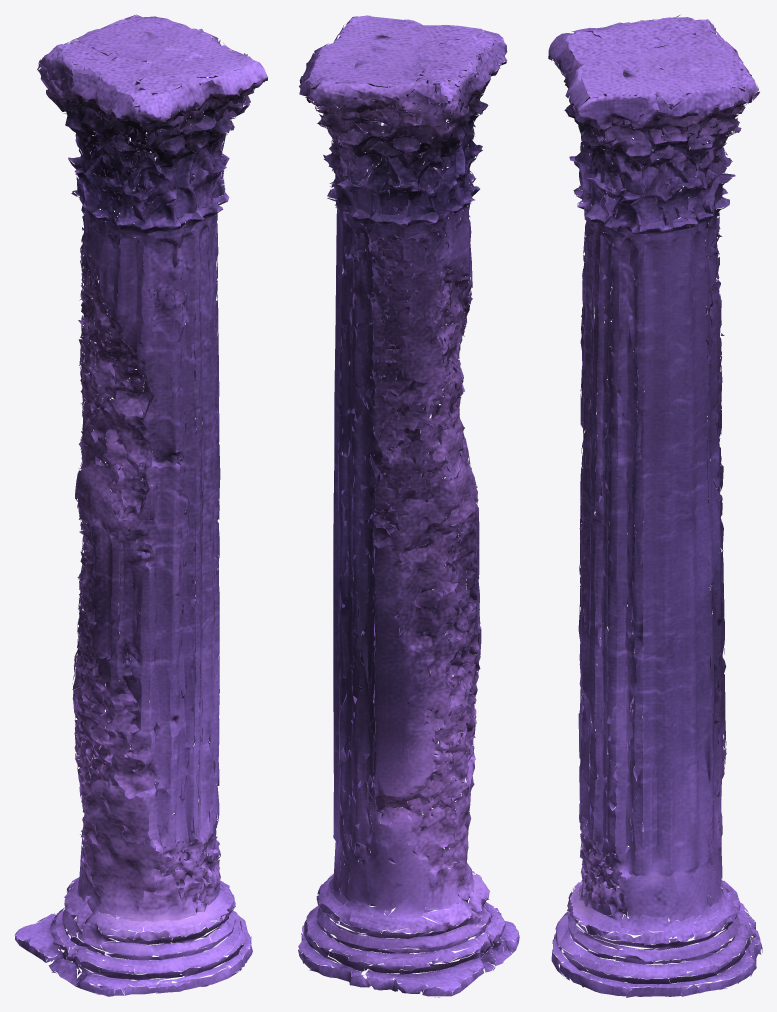
Rendered from PurpleColumn.glb.
3 renders of one model, left to right at view 1: azimuth 30°, elevation 25°; view 2: azimuth 150°, elevation 25°; view 3: azimuth 270°, elevation 25°, orthographic.
Visible parts, largest first — view 1: PurpleColumn_Segment_01, PurpleColumn_Segment_03, PurpleColumn_Segment_04, PurpleColumn_Segment_02, PurpleColumn_Segment_05; view 2: PurpleColumn_Segment_03, PurpleColumn_Segment_02, PurpleColumn_Segment_04, PurpleColumn_Segment_01, PurpleColumn_Segment_05; view 3: PurpleColumn_Segment_03, PurpleColumn_Segment_04, PurpleColumn_Segment_05, PurpleColumn_Segment_02, PurpleColumn_Segment_01, PurpleColumn_Segment_06.
Boxes of the visible parts, box(x1,y1,x2,y2) form: PurpleColumn_Segment_01: box(15, 43, 172, 996); PurpleColumn_Segment_03: box(80, 14, 267, 986); PurpleColumn_Segment_04: box(14, 25, 245, 995); PurpleColumn_Segment_02: box(54, 28, 218, 992); PurpleColumn_Segment_05: box(53, 15, 267, 956); PurpleColumn_Segment_03: box(302, 15, 445, 989); PurpleColumn_Segment_02: box(349, 25, 470, 993); PurpleColumn_Segment_04: box(298, 25, 518, 991); PurpleColumn_Segment_01: box(398, 27, 519, 997); PurpleColumn_Segment_05: box(298, 16, 486, 993); PurpleColumn_Segment_03: box(555, 42, 762, 994); PurpleColumn_Segment_04: box(551, 20, 758, 997); PurpleColumn_Segment_05: box(554, 23, 761, 987); PurpleColumn_Segment_02: box(555, 20, 757, 944); PurpleColumn_Segment_01: box(548, 15, 751, 924); PurpleColumn_Segment_06: box(598, 97, 719, 234).
Size of the model in its own units: 2.52 by 11.99 by 2.56.
Materials: 1 (1 with a texture image).
